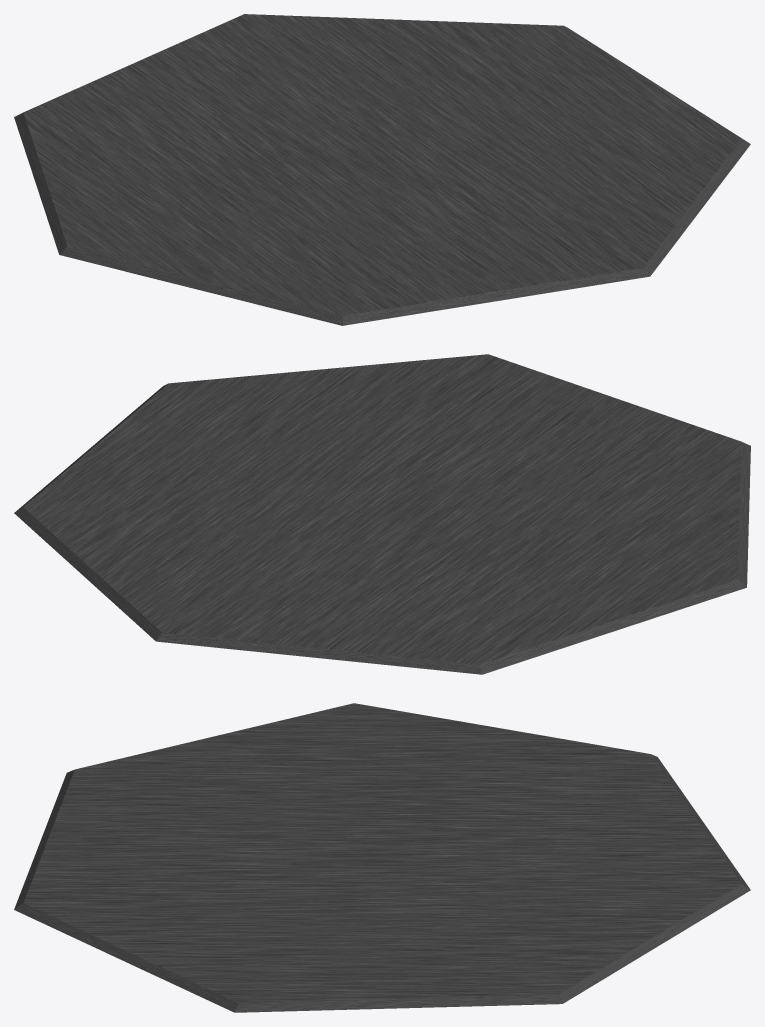
File: finish-pad.fbx
3 renders of one model, top to bottom at view 1: azimuth 30°, elevation 25°; view 2: azimuth 150°, elevation 25°; view 3: azimuth 270°, elevation 25°, orthographic. The views are drawn at different scales.
Visible parts, largest first — view 1: finish; view 2: finish; view 3: finish.
Boxes of the visible parts, x1=… form: finish: x1=14, y1=14, x2=750, y2=325; finish: x1=14, y1=354, x2=750, y2=674; finish: x1=14, y1=703, x2=750, y2=1012.
Bounding box in the file's own units: 74.68 × 0.6635 × 75.51.
